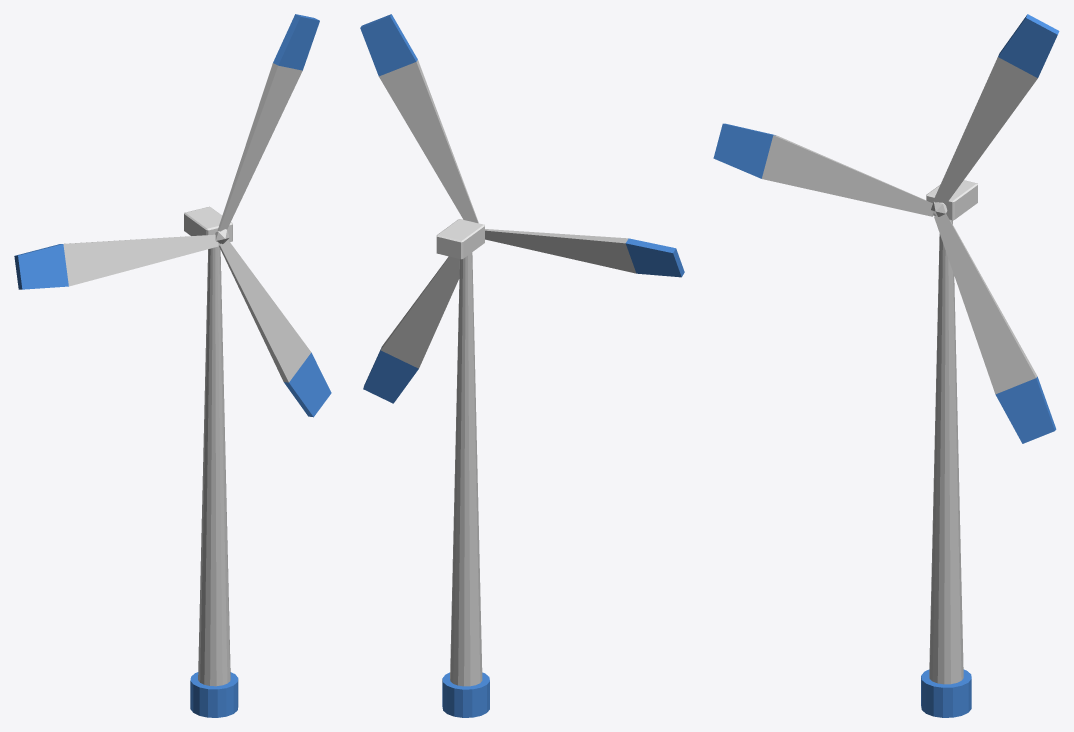
File: Windrad.fbx
3 views of the same model, side by side, from view 1: azimuth 30°, elevation 25°; view 2: azimuth 150°, elevation 25°; view 3: azimuth 330°, elevation 25° (orthographic). The views are drawn at different scales.
Visible parts, largest first — view 1: Circle.001, Plane.005, Plane.003, Plane.004, Cube.006; view 2: Circle.001, Plane.004, Plane.003, Plane.005, Cube.006; view 3: Circle.001, Plane.003, Plane.005, Plane.004, Cube.006.
Part boxes in pixels (bbox=[...]): Circle.001: bbox=[190, 246, 238, 717]; Plane.005: bbox=[14, 234, 218, 289]; Plane.003: bbox=[218, 240, 331, 417]; Plane.004: bbox=[217, 14, 319, 231]; Cube.006: bbox=[184, 206, 232, 244]; Circle.001: bbox=[442, 252, 489, 717]; Plane.004: bbox=[360, 14, 478, 222]; Plane.003: bbox=[363, 256, 459, 403]; Plane.005: bbox=[485, 229, 684, 277]; Cube.006: bbox=[436, 219, 484, 259]; Circle.001: bbox=[921, 219, 971, 717]; Plane.003: bbox=[934, 214, 1056, 443]; Plane.005: bbox=[713, 123, 933, 216]; Plane.004: bbox=[933, 14, 1059, 204]; Cube.006: bbox=[926, 180, 977, 220].
Bounding box in the file's own units: 1511 × 3087 × 268.
